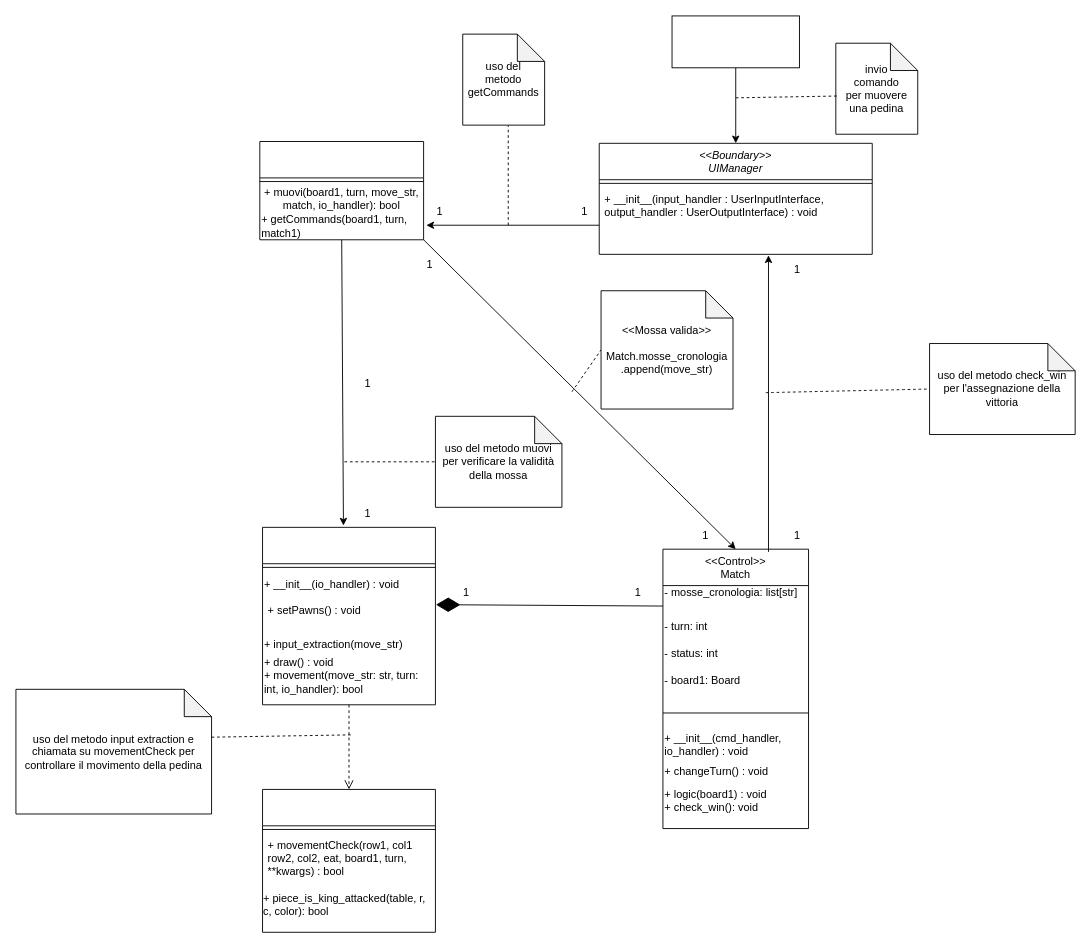
Some shapes in this 1091 by 948 pixel diagram are drawn without their labels. Here are the shapes that lost their labels. From the top down, the box of each, then its label:
(671, 15, 799, 68): <<Actor>> Giocatore
(259, 141, 424, 240): <<Control>> getCommands_menu
(262, 526, 435, 705): <<Entity>> Board
(262, 789, 435, 932): <<Boundary>> Pawns
